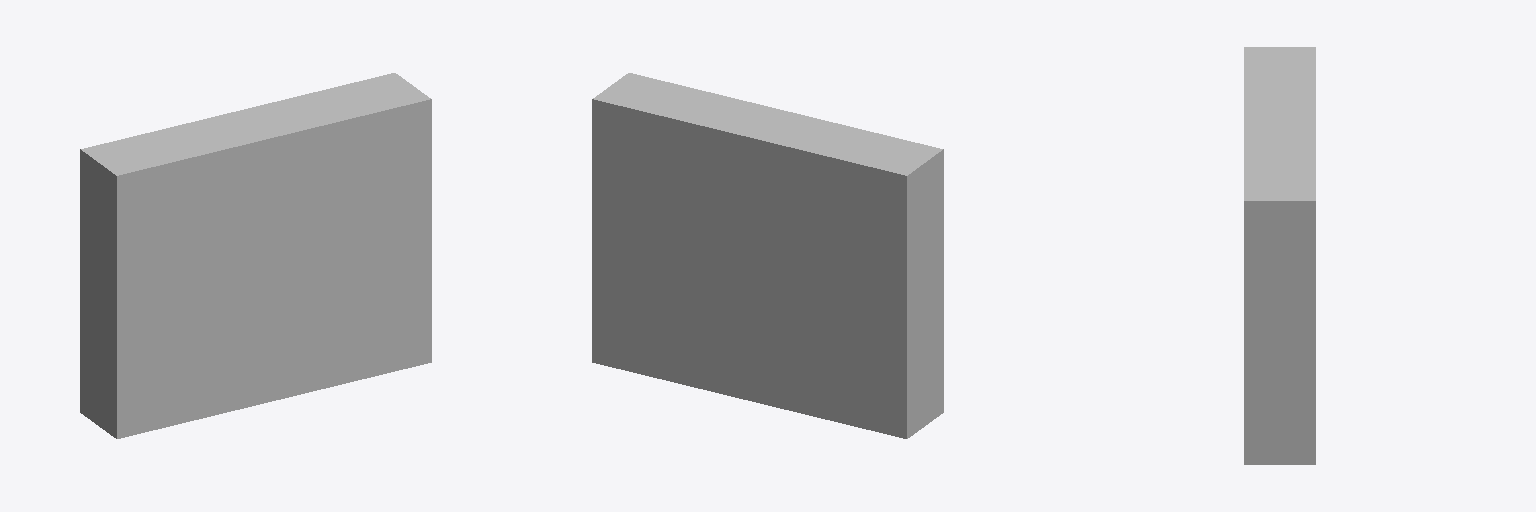
3 views of the same model, side by side, from view 1: azimuth 30°, elevation 25°; view 2: azimuth 150°, elevation 25°; view 3: azimuth 270°, elevation 25° (orthographic).
Visible parts, largest first — view 1: VTX_SEG_0x0, VTX_SEG_0x180, VTX_SEG_0x240, VTX_SEG_0x540; view 2: VTX_SEG_0x440, VTX_SEG_0x180, VTX_SEG_0x240, VTX_SEG_0x540, VTX_SEG_0x80, VTX_SEG_0x340; view 3: VTX_SEG_0x440, VTX_SEG_0x240, VTX_SEG_0x540.
Part boxes in pixels (x1,y1,x2,y2): VTX_SEG_0x0: (117, 99, 431, 438); VTX_SEG_0x180: (80, 149, 116, 438); VTX_SEG_0x240: (81, 111, 273, 175); VTX_SEG_0x540: (239, 73, 430, 136); VTX_SEG_0x440: (592, 99, 774, 362); VTX_SEG_0x180: (775, 149, 943, 438); VTX_SEG_0x240: (750, 111, 942, 321); VTX_SEG_0x540: (593, 73, 784, 209); VTX_SEG_0x80: (737, 323, 905, 438); VTX_SEG_0x340: (593, 323, 774, 397); VTX_SEG_0x440: (1244, 201, 1315, 464); VTX_SEG_0x240: (1244, 47, 1315, 123); VTX_SEG_0x540: (1244, 124, 1315, 200).
Bounding box in the file's own units: 250 × 200 × 50.